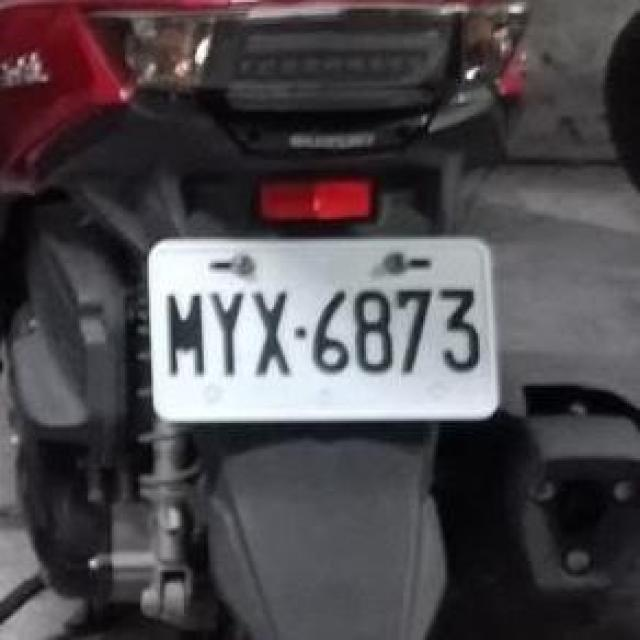W: (136, 213, 511, 445)
